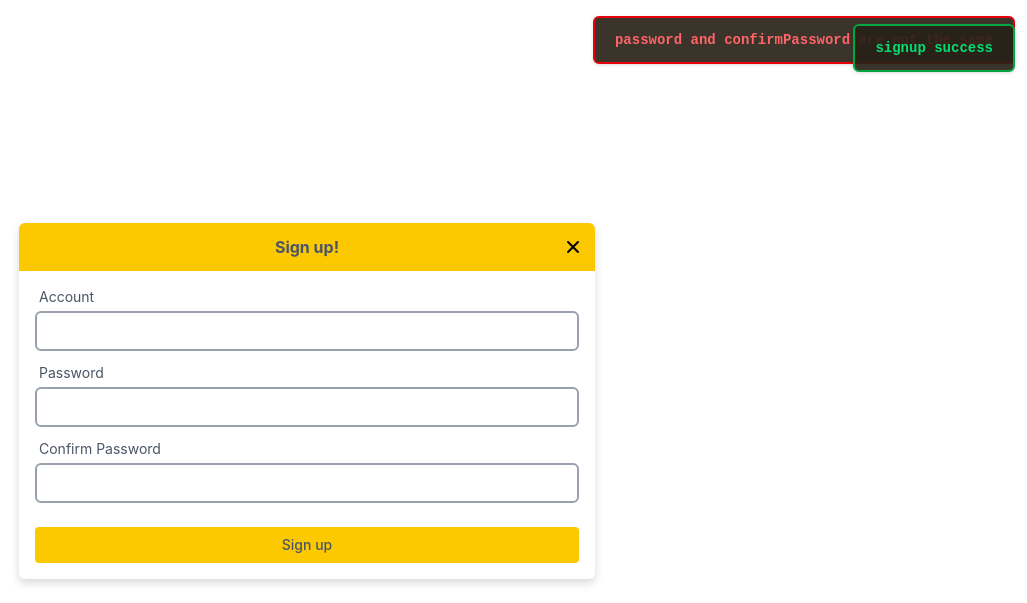
Scenario: AppHeader/SignUpPopup component › signup error
Type "FAKE_ACCOUNT" into the field labelled "Account".
click(307, 331); type("FAKE_ACCOUNT")  # box [35, 311, 579, 351]
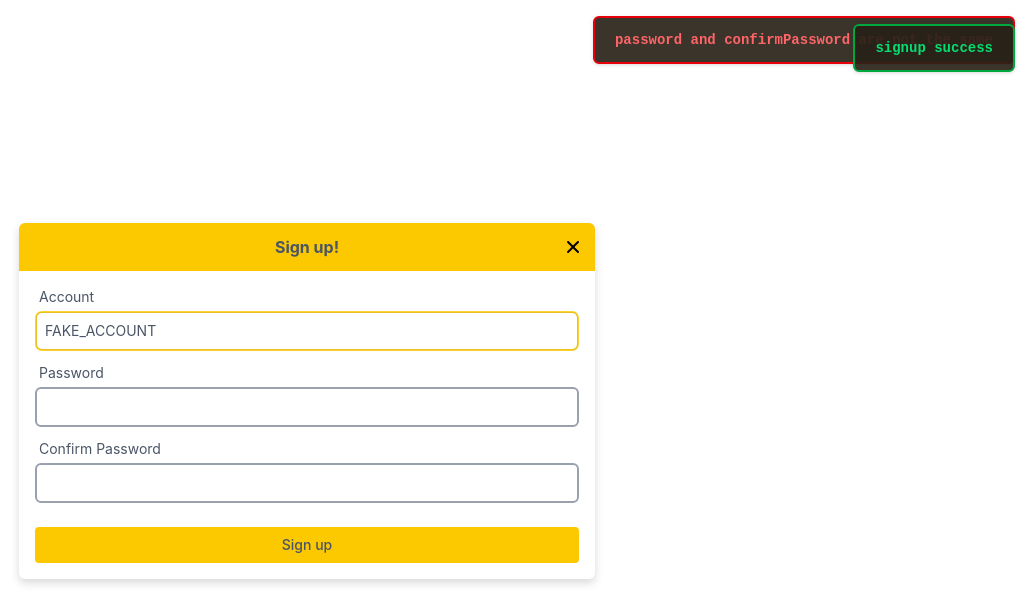
Type "PASSWORD" into the password field labelled "Password".
click(307, 407); type("PASSWORD")  # box [35, 387, 579, 427]
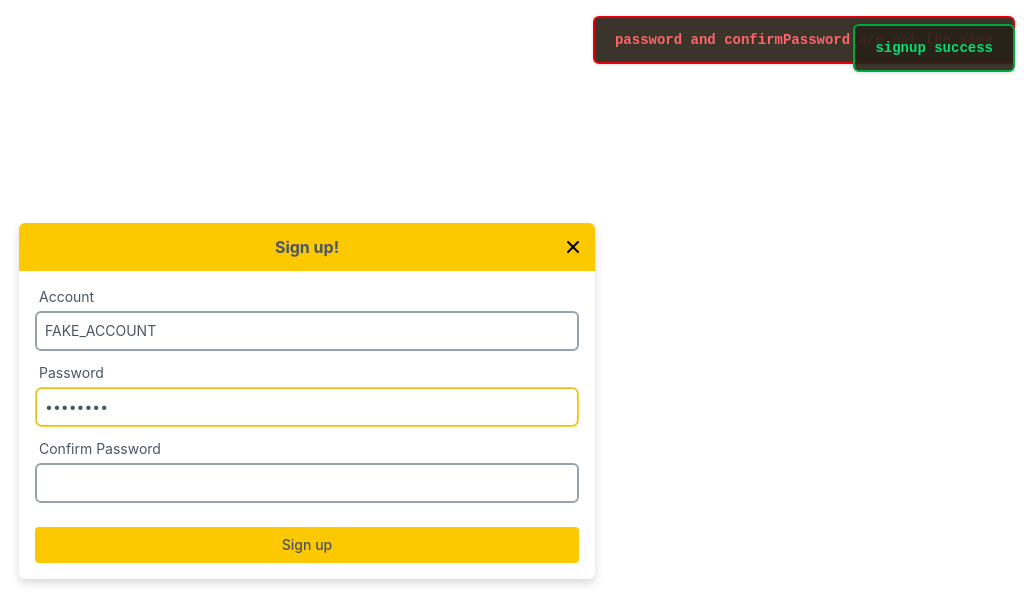
Type "PASSWORD" into the password field labelled "Confirm Password".
click(307, 483); type("PASSWORD")  # box [35, 463, 579, 503]
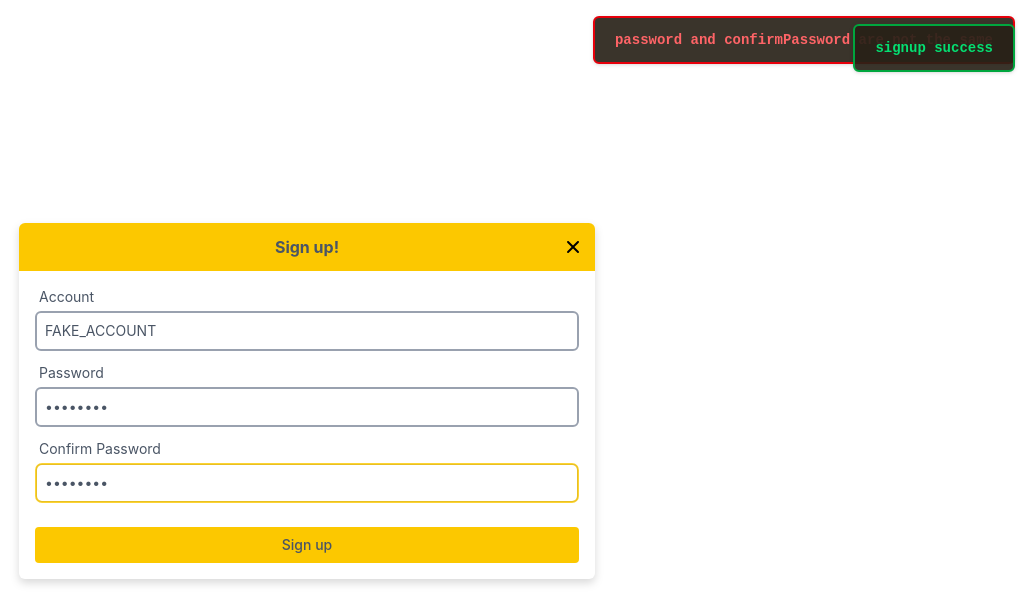
Click the button "Sign up".
click(307, 545)  # box [35, 527, 579, 563]
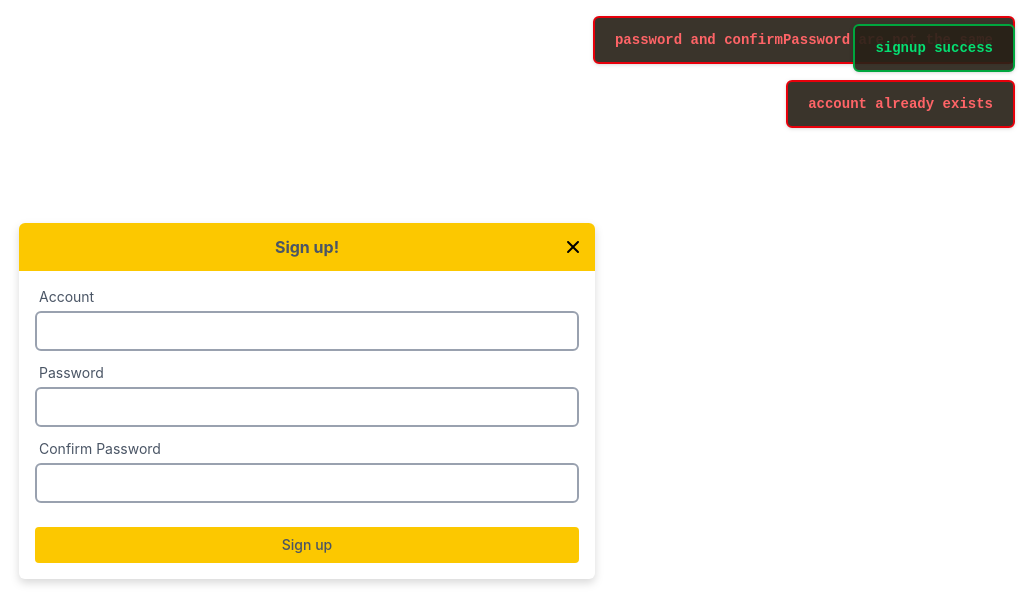
Now the text "account already exists" is shown, box [808, 94, 993, 114]
